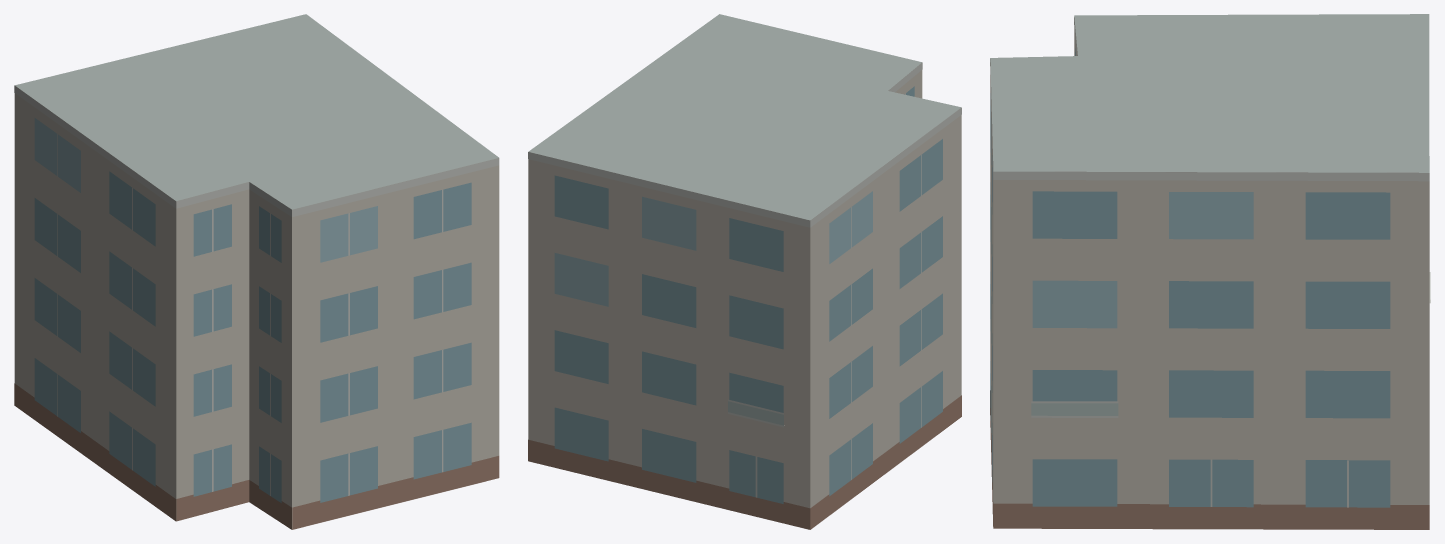
File: survey-upis-32815228.glb
3 views of the same model, side by side, from view 1: azimuth 30°, elevation 25°; view 2: azimuth 150°, elevation 25°; view 3: azimuth 270°, elevation 25° (orthographic). The views are drawn at different scales.
Parts seen in each view (by area): view 1: survey-upis-32815228.tmp; view 2: survey-upis-32815228.tmp; view 3: survey-upis-32815228.tmp.
Boxes of the visible parts, bbox=[...] form: survey-upis-32815228.tmp: bbox=[14, 14, 499, 529]; survey-upis-32815228.tmp: bbox=[528, 14, 961, 529]; survey-upis-32815228.tmp: bbox=[990, 14, 1430, 529].
Size of the model in its own units: 9.93 by 10.4 by 11.63.
